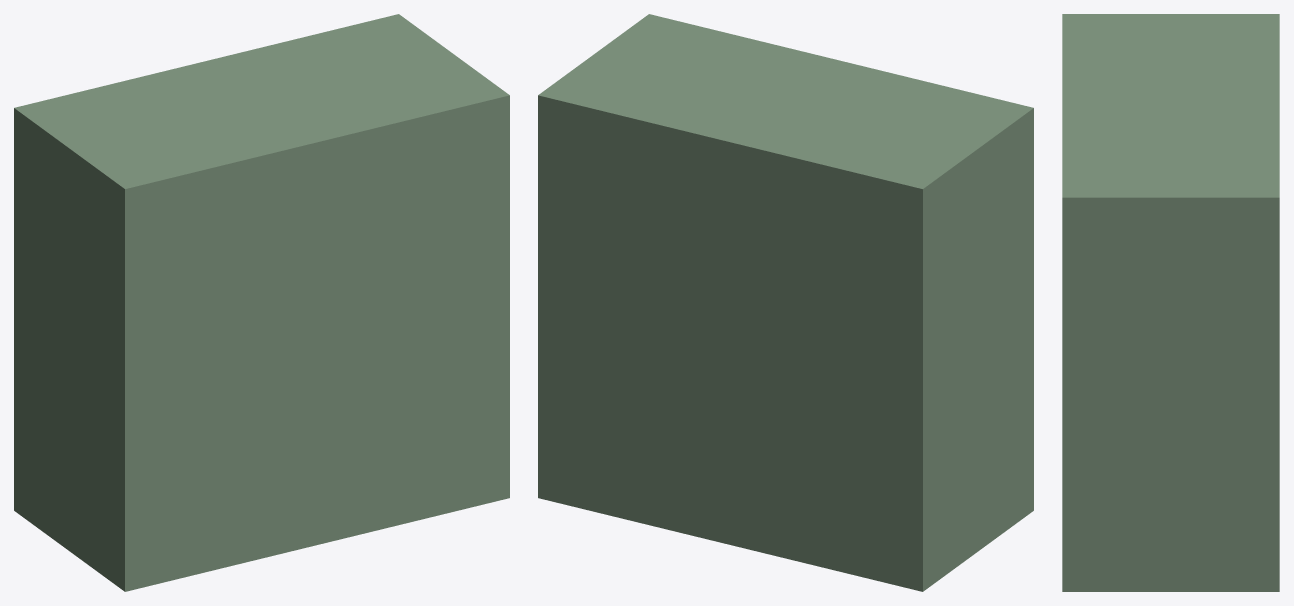
Rendered from Climb_VerticalSlab.glb.
The picture shows the model from 3 angles, left to right: view 1: azimuth 30°, elevation 25°; view 2: azimuth 150°, elevation 25°; view 3: azimuth 270°, elevation 25°; orthographic projection. The views are drawn at different scales.
Parts seen in each view (by area): view 1: Climb_VerticalSlab_body; view 2: Climb_VerticalSlab_body; view 3: Climb_VerticalSlab_body.
Boxes of the visible parts, left/top/right/bottom form: Climb_VerticalSlab_body: left=14, top=14, right=509, bottom=591; Climb_VerticalSlab_body: left=538, top=14, right=1033, bottom=591; Climb_VerticalSlab_body: left=1062, top=14, right=1279, bottom=591.
Bounding box in the file's own units: 1 × 1 × 0.5.
